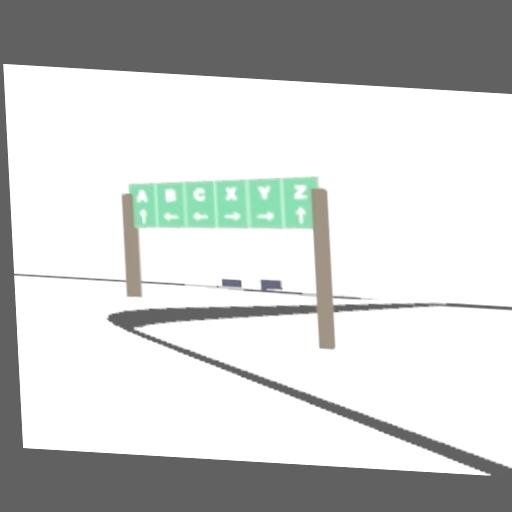A: (136, 189, 148, 202)
B: (164, 187, 175, 202)
C: (192, 187, 205, 200)
Left: (191, 210, 208, 220), (164, 212, 180, 220)
Right: (255, 210, 274, 220), (221, 210, 240, 220)
Straight: (294, 207, 306, 224), (140, 210, 148, 224)
X: (224, 186, 237, 200)
Y: (256, 184, 270, 198)
Z: (294, 184, 306, 199)
